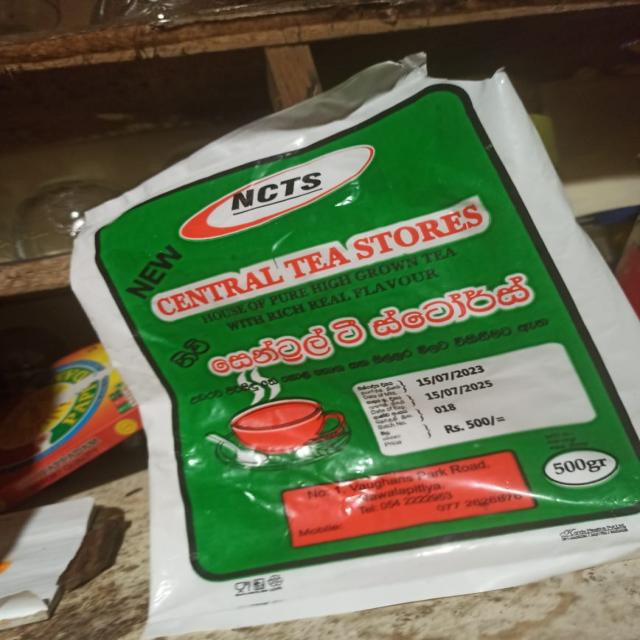Central Tea: (56, 136, 640, 618)
